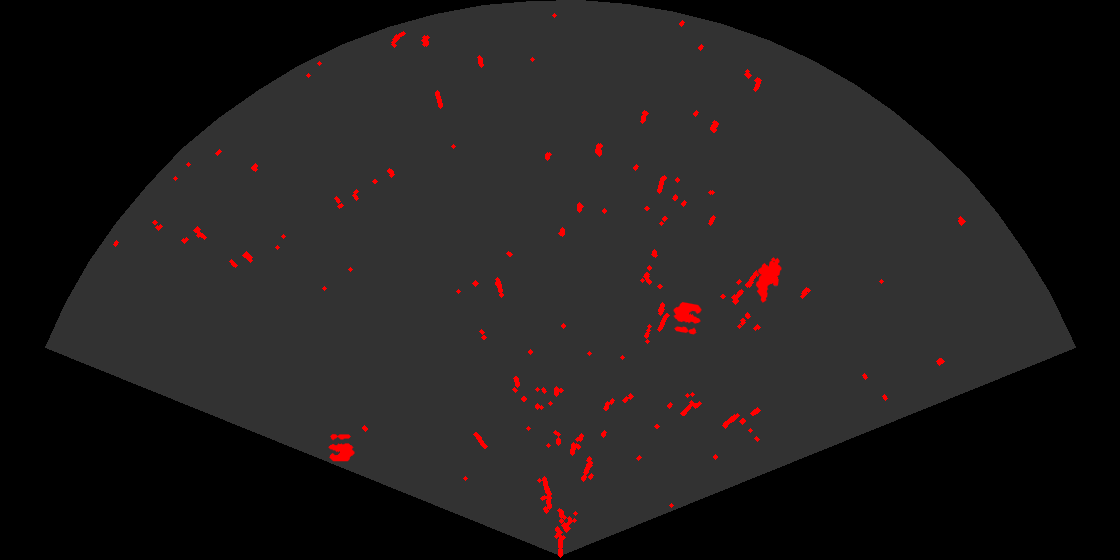AUV: (754, 256, 783, 304)
ball: (672, 300, 703, 336), (327, 432, 356, 463)
